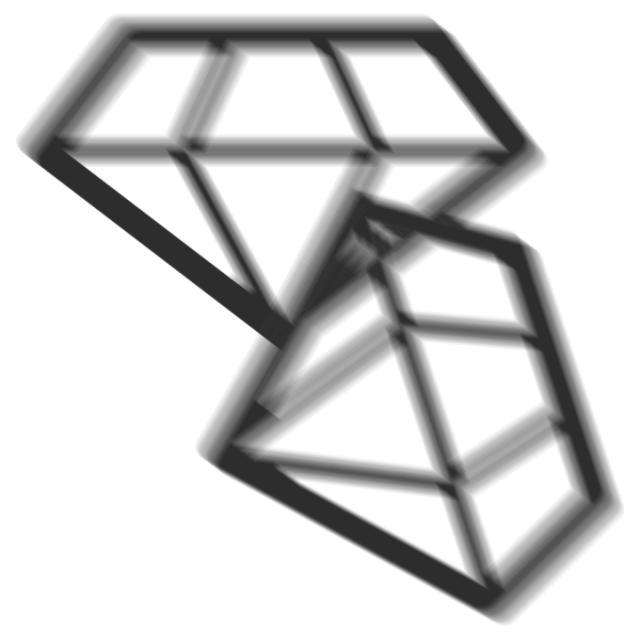diamond: (182, 186, 633, 637), (12, 9, 564, 376)
